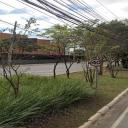speed_limit_40: (90, 59, 103, 67)
